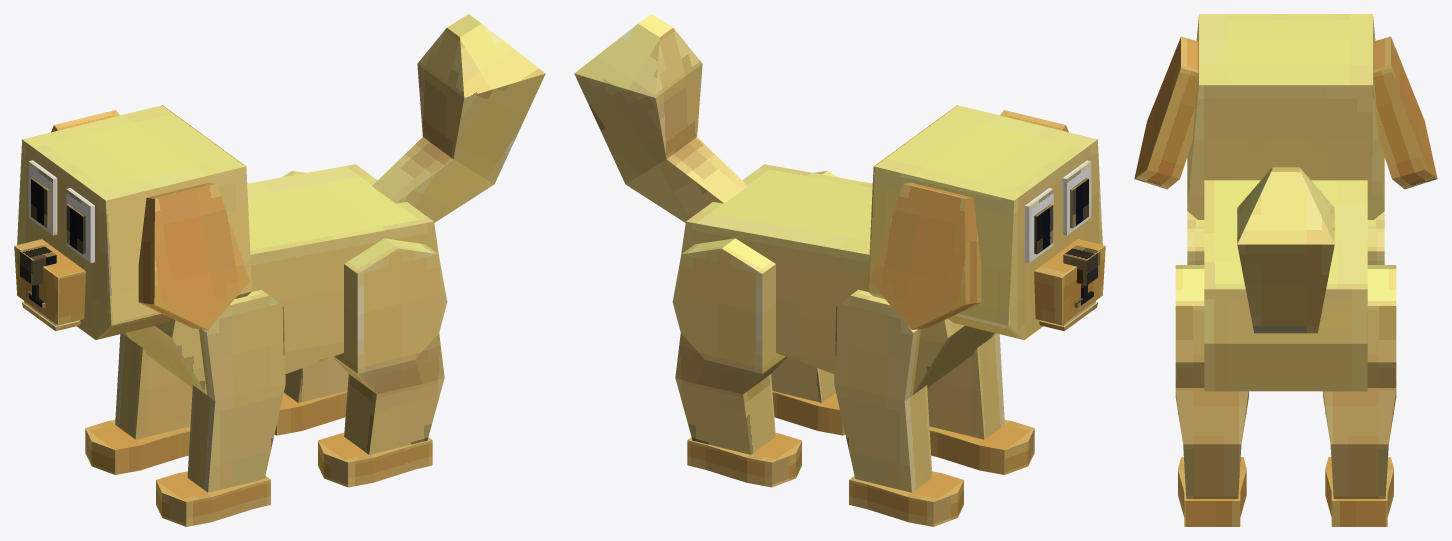
The model's file is animal_golden_retriver.obj.
3 views of the same model, side by side, from view 1: azimuth 30°, elevation 25°; view 2: azimuth 150°, elevation 25°; view 3: azimuth 270°, elevation 25° (orthographic). The views are drawn at different scales.
Visible parts, largest first — view 1: animal_golden_retriver; view 2: animal_golden_retriver; view 3: animal_golden_retriver.
Part boxes in pixels (x1=…): animal_golden_retriver: x1=14, y1=14, x2=545, y2=526; animal_golden_retriver: x1=574, y1=14, x2=1105, y2=526; animal_golden_retriver: x1=1134, y1=14, x2=1437, y2=526.
Bounding box in the file's own units: 5.61 × 4.2 × 2.86.
1 material, 1 textured.
